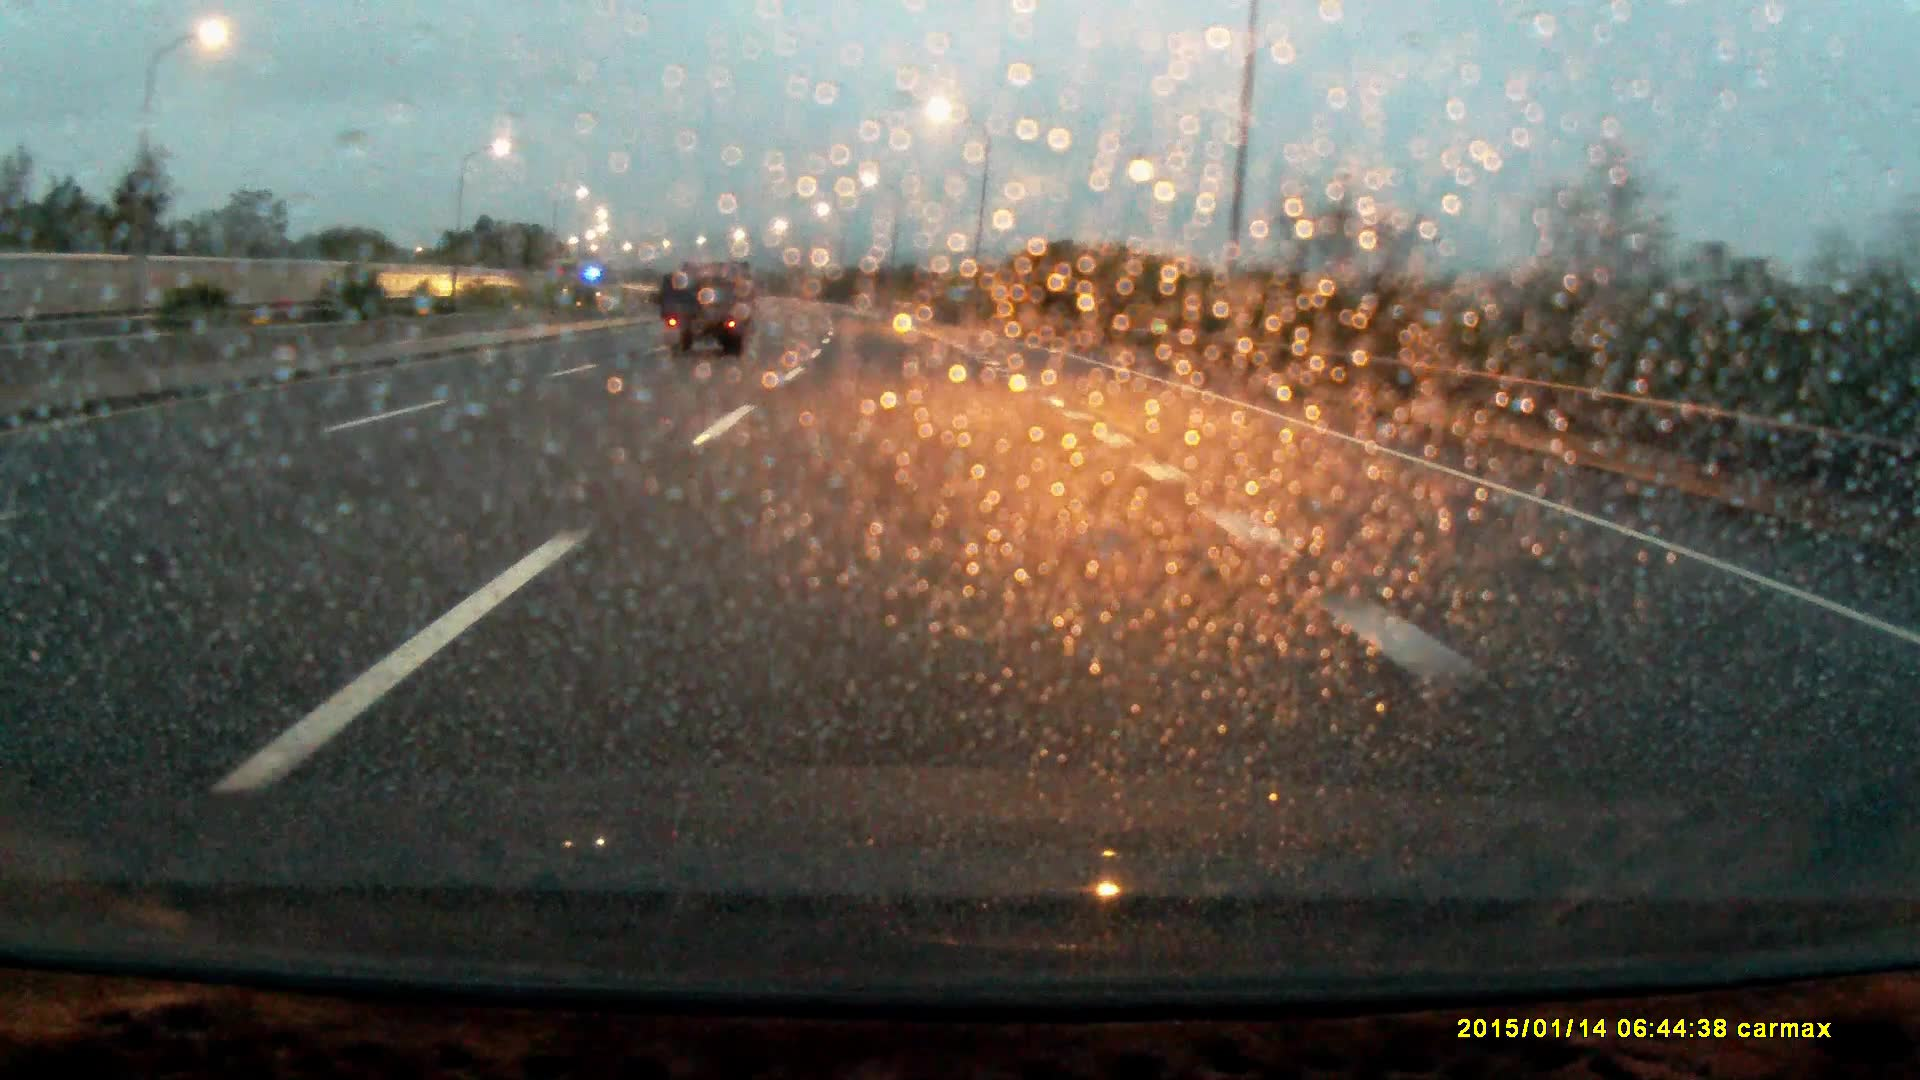vehicle: (666, 262, 757, 363)
